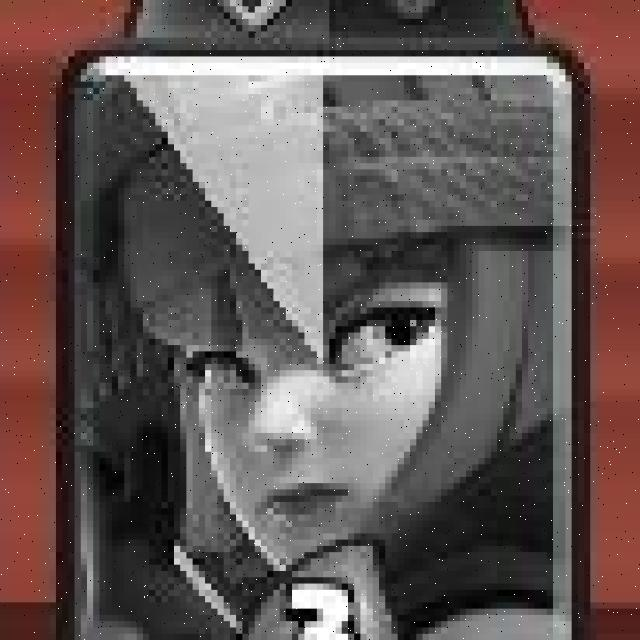Firecracker: (60, 51, 594, 640)
